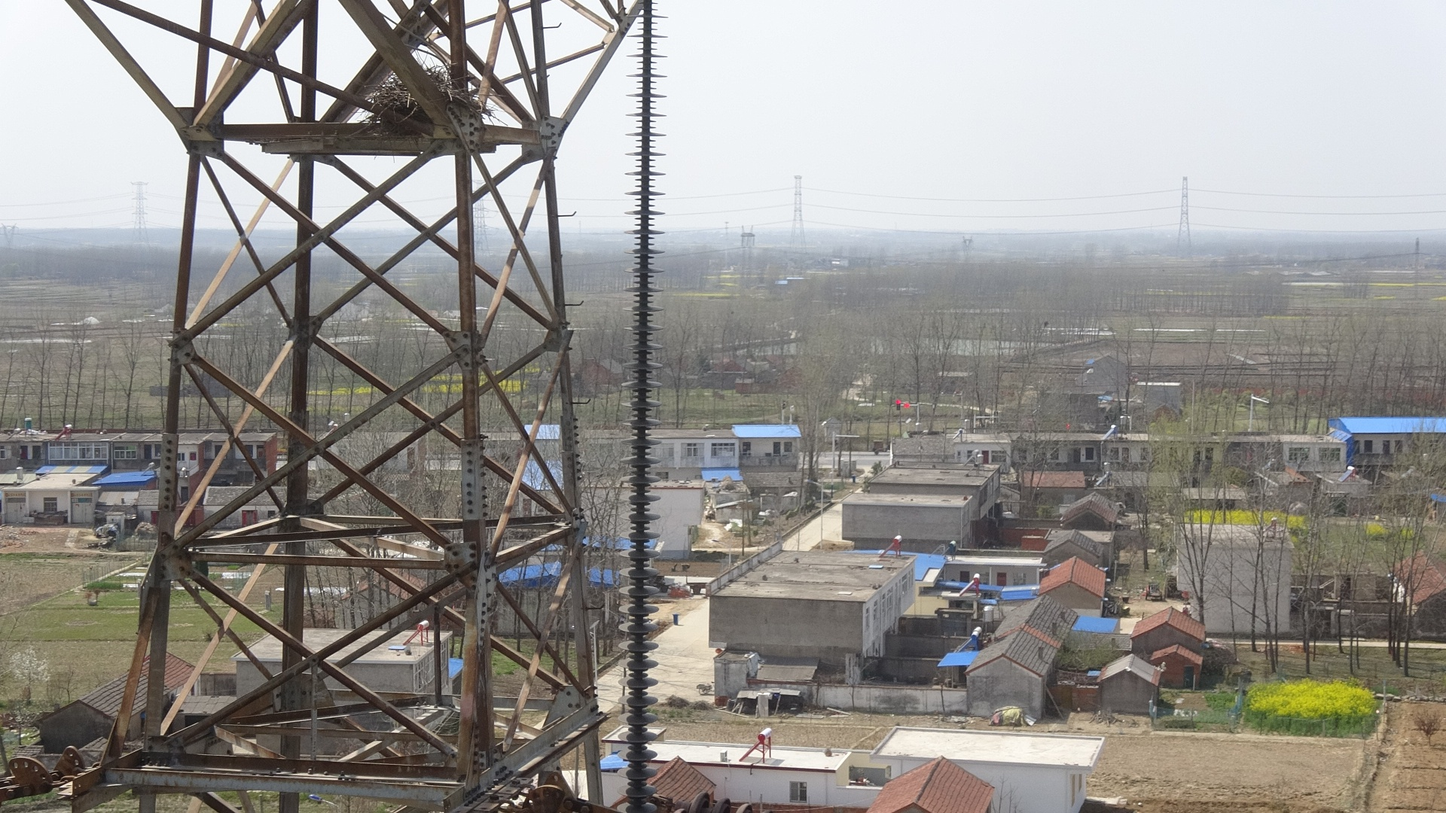insulator: (609, 1, 674, 813)
